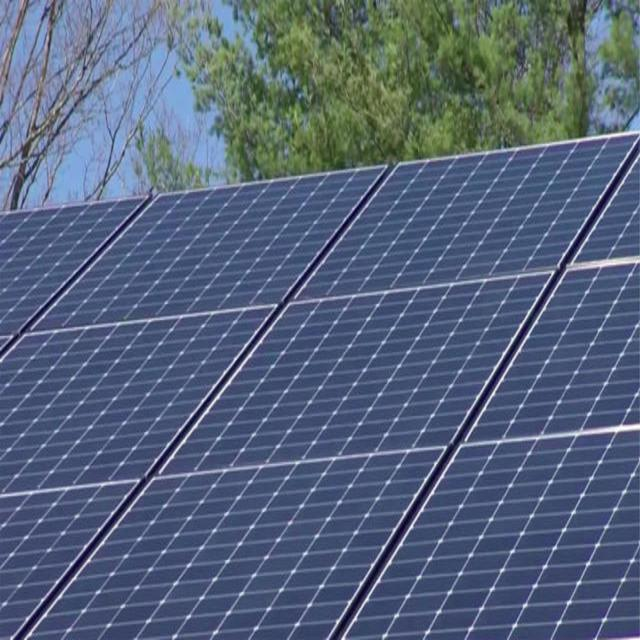clean-solar-panel: (0, 133, 640, 638)
